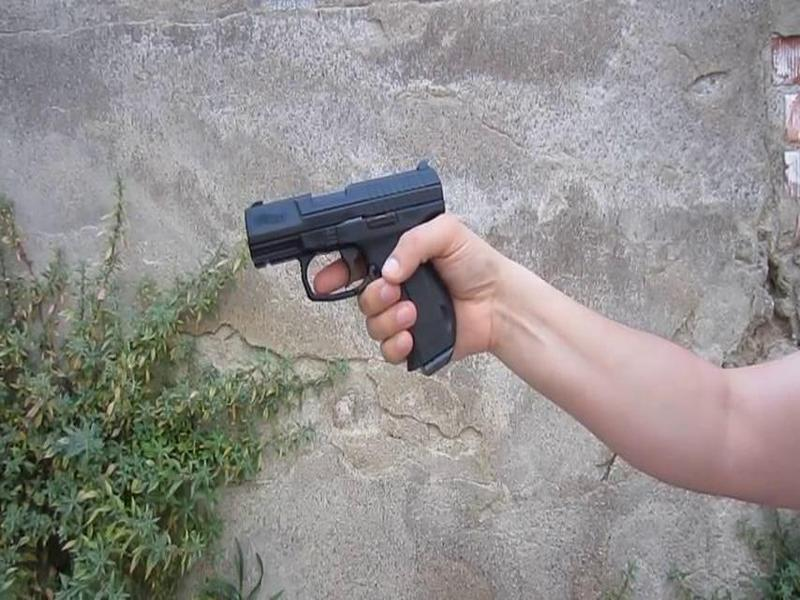Pistola: (227, 160, 485, 369)
